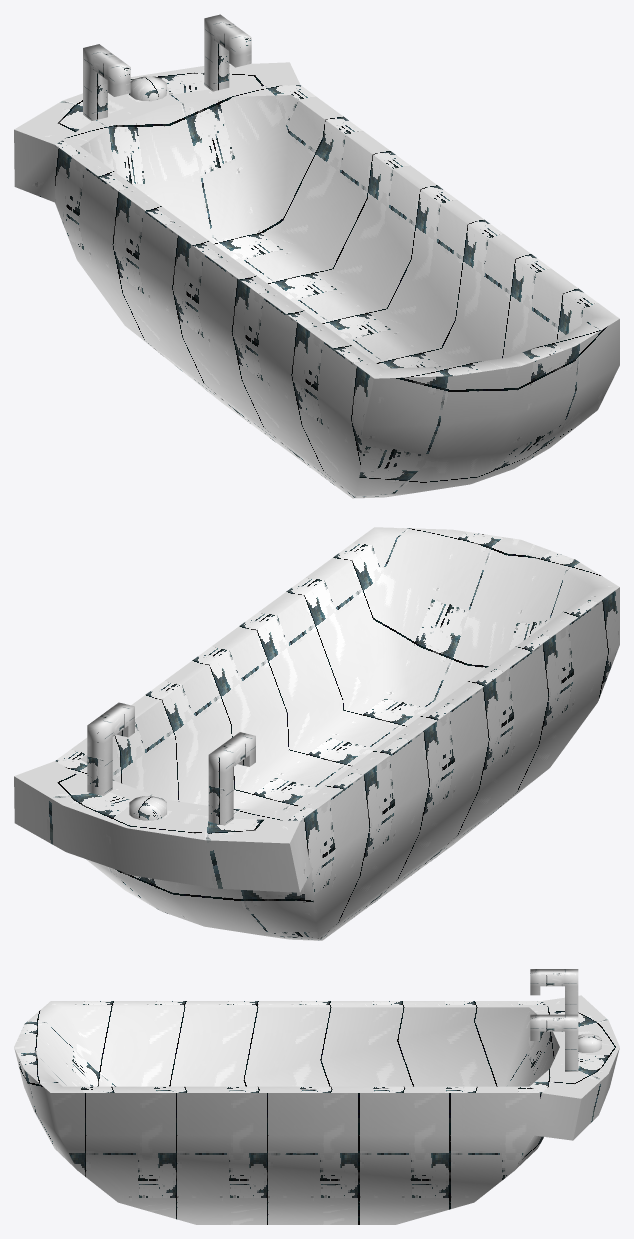
File: Bath.FBX
3 renders of one model, top to bottom at view 1: azimuth 30°, elevation 25°; view 2: azimuth 150°, elevation 25°; view 3: azimuth 270°, elevation 25°, orthographic. The views are drawn at different scales.
Visible parts, largest first — view 1: Bath; view 2: Bath; view 3: Bath.
Part boxes in pixels (x1,y1,x2,y2): Bath: (14,14,619,498); Bath: (14,527,619,940); Bath: (14,969,619,1224).
Size of the model in its own units: 2.24 by 5.36 by 2.05.
1 material, 1 textured.
